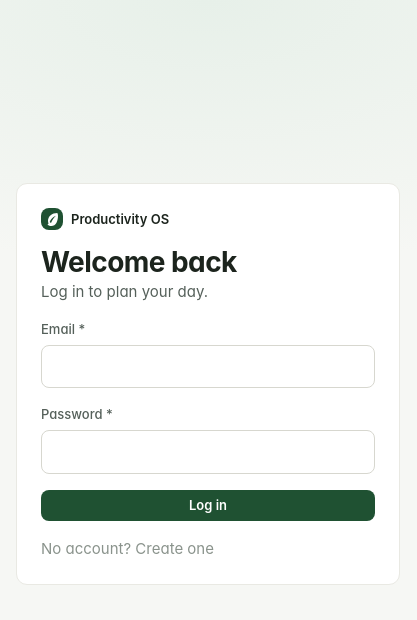
Scenario: Login › shows the wrong-password message without redirecting
Type "sam@example.com" into the field named "Email *(required)" at (208,367), box [41, 345, 375, 388]
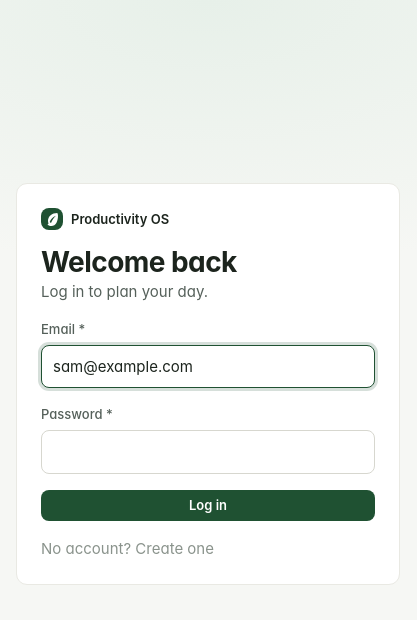
Type "Wrong!1" into the password field named "Password *(required)" at (208,452), box [41, 430, 375, 474]
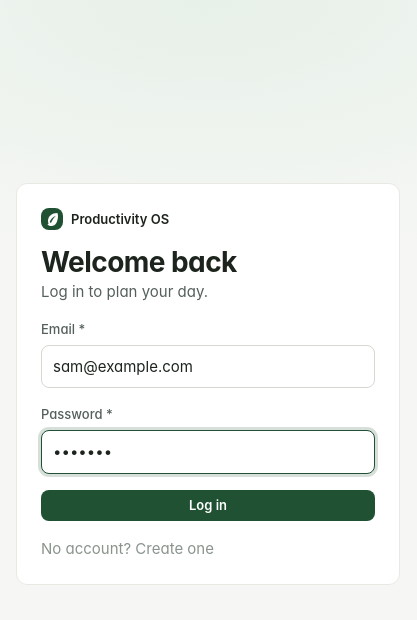
Click the button "Log in" at (208,505), box [41, 490, 375, 521]
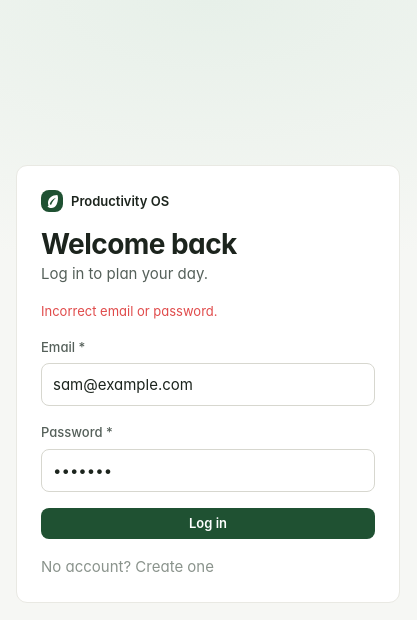
Check: the text "Incorrect email or password." is shown, box [41, 303, 218, 319]
